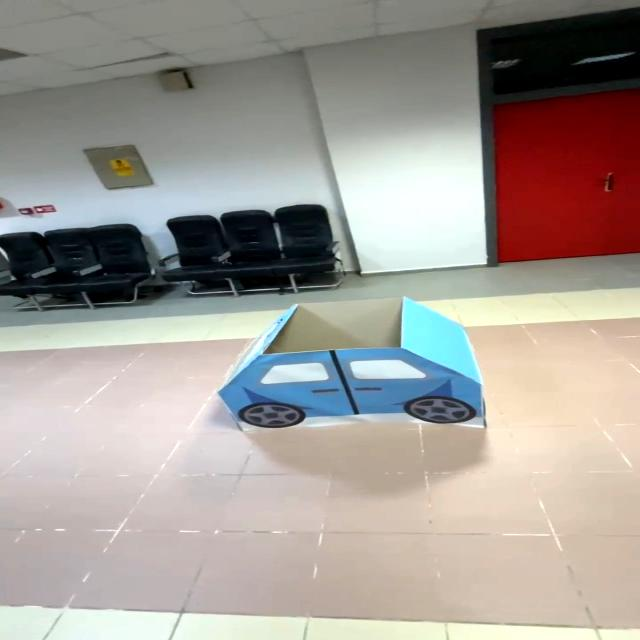blue_car: (199, 291, 518, 456)
